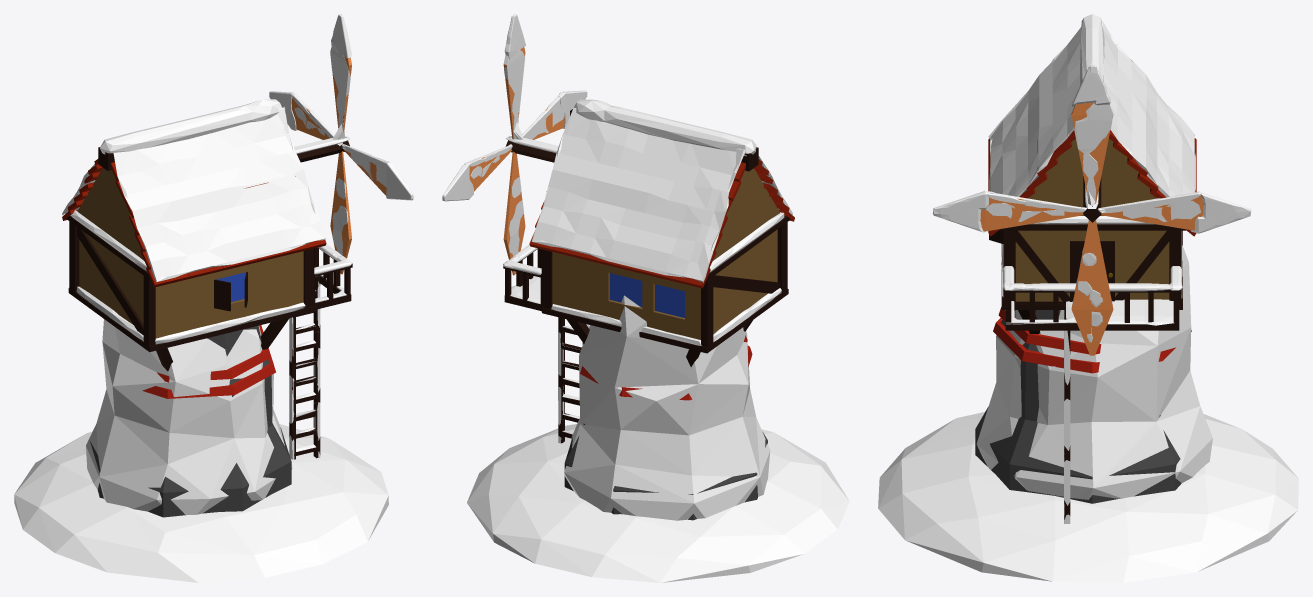
File: WindmillWSnow_01.obj
3 renders of one model, left to right at view 1: azimuth 30°, elevation 25°; view 2: azimuth 150°, elevation 25°; view 3: azimuth 270°, elevation 25°, orthographic. The views are drawn at different scales.
Parts seen in each view (by area): view 1: WindmillWSnow_01_Cube.002; view 2: WindmillWSnow_01_Cube.002; view 3: WindmillWSnow_01_Cube.002.
Part boxes in pixels (x1,y1,x2,y2): WindmillWSnow_01_Cube.002: (14,14,413,582); WindmillWSnow_01_Cube.002: (442,14,849,582); WindmillWSnow_01_Cube.002: (878,14,1298,582).
Size of the model in its own units: 18 by 24.74 by 17.94.
